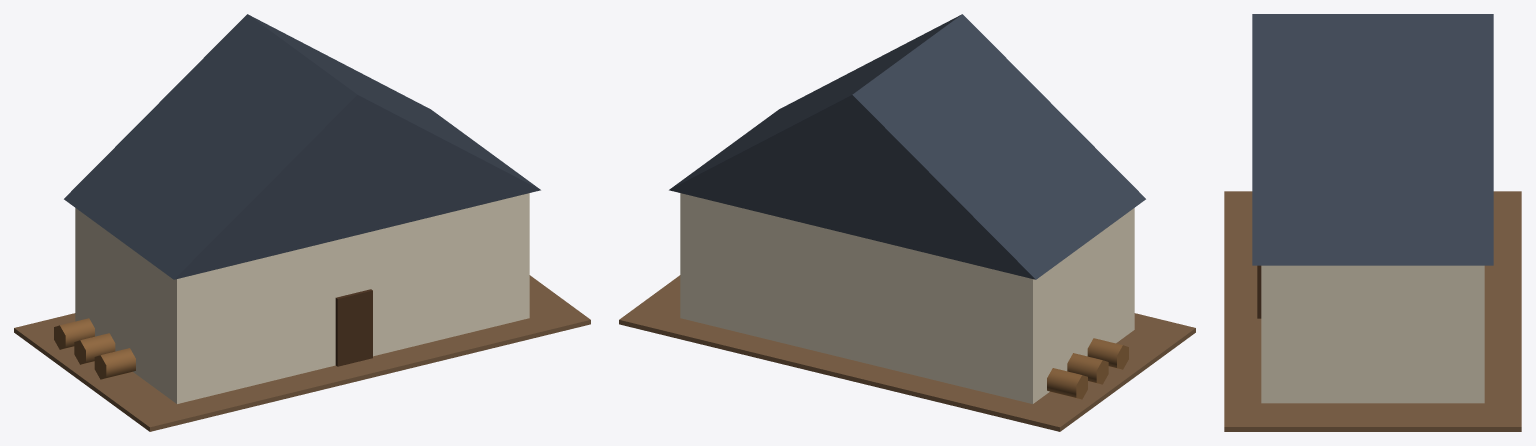
The model's file is bld_special_warehouse_a03.glb.
The picture shows the model from 3 angles, left to right: view 1: azimuth 30°, elevation 25°; view 2: azimuth 150°, elevation 25°; view 3: azimuth 270°, elevation 25°; orthographic projection. The views are drawn at different scales.
Parts seen in each view (by area): view 1: body; view 2: body; view 3: body.
Boxes of the visible parts, left/top/right/bottom form: body: left=14, top=14, right=590, bottom=431; body: left=619, top=14, right=1195, bottom=431; body: left=1224, top=14, right=1521, bottom=431.
Size of what is drawn, in the model's own units: 15 by 8.91 by 8.
